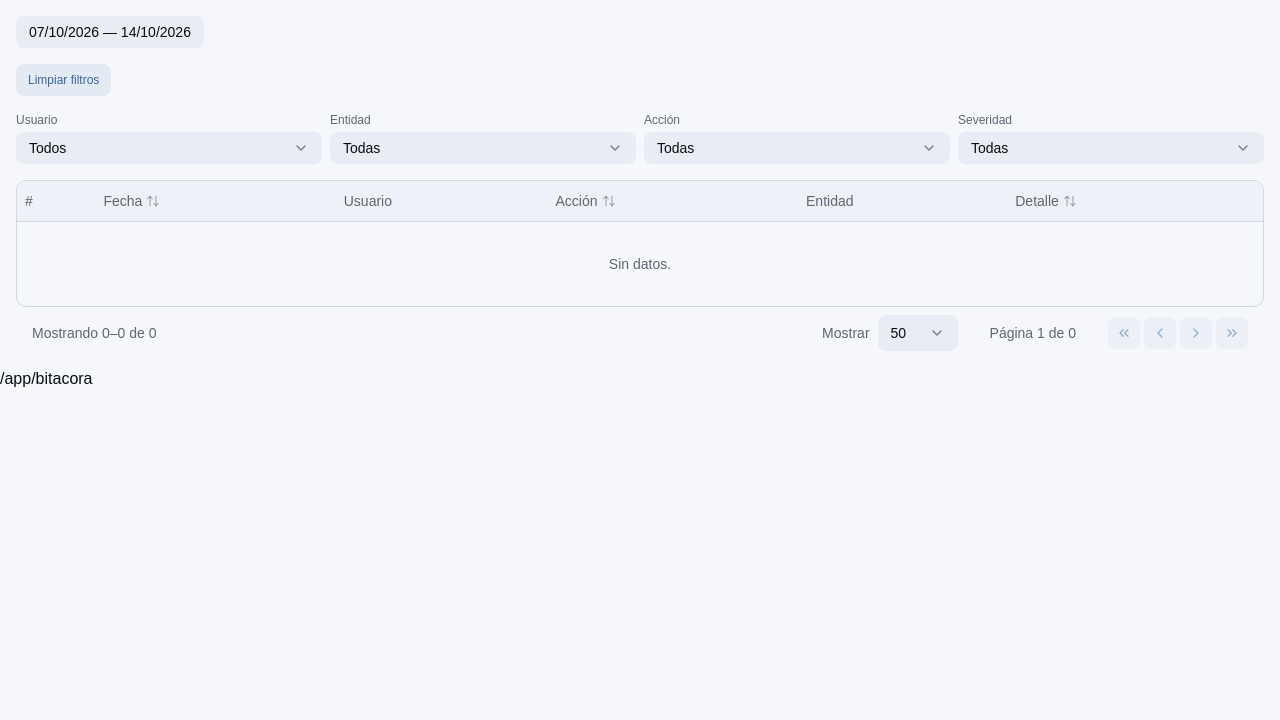
it: the author filter › marks an author whose account has been archived
Click the button "Todos" at (48, 148), box [16,132,322,164]
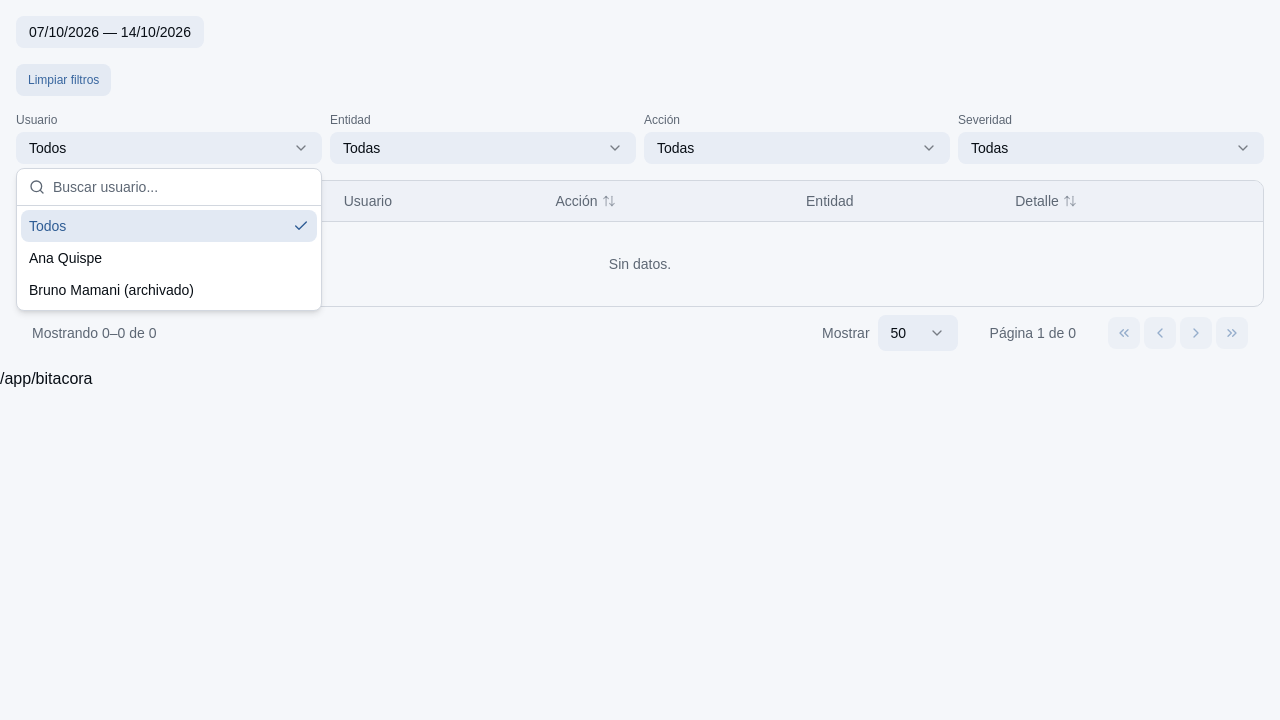
Now the text "Ana Quispe" is shown, box [29,250,102,266]
Now the text "Bruno Mamani (archivado)" is shown, box [29,282,194,298]
